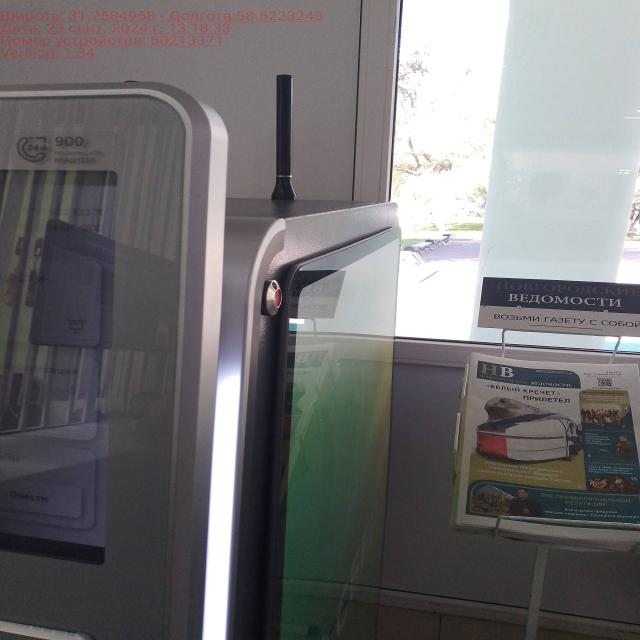bank: (0, 84, 399, 640)
